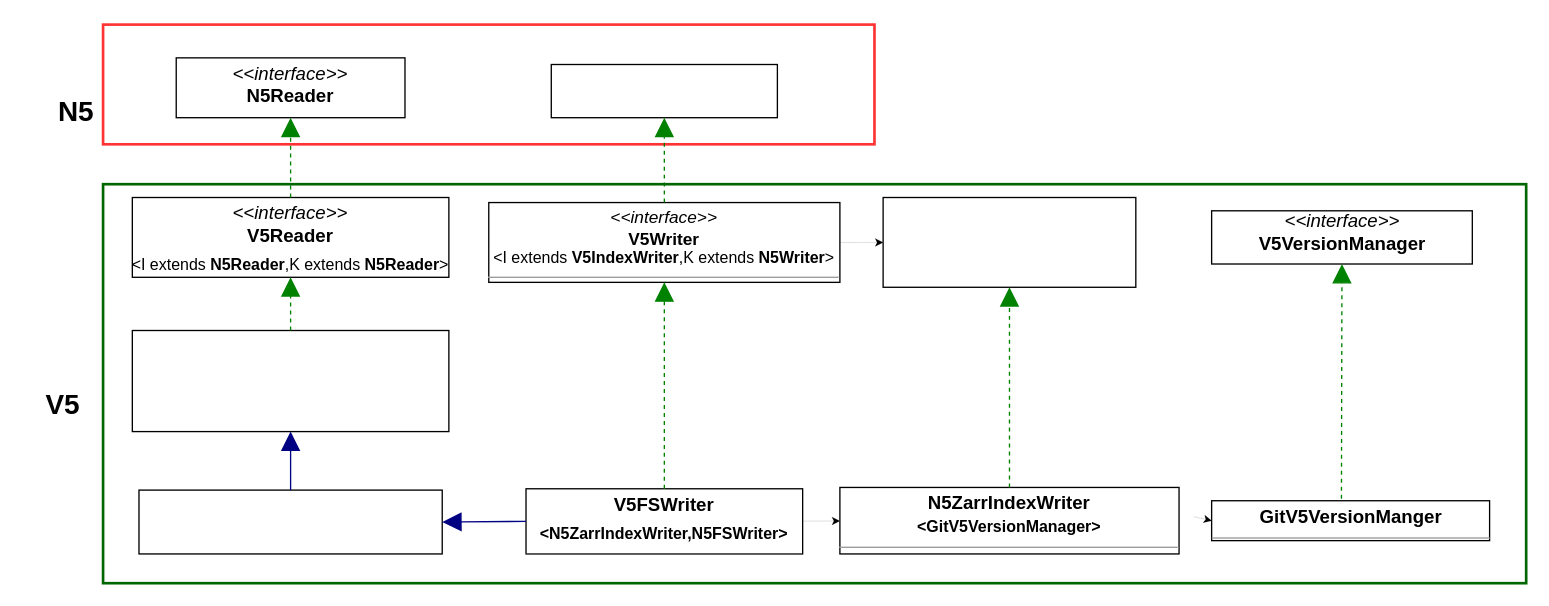
Image size: 1549x606. Some labels were removed from this diagram. Here are the shapes that lost their labels. From the top down, the centre of each, then its label:
the point at 663,90: <<interface>> N5Writer
the point at 1009,241: <<interface>> V5IndexWriter <G extends V5VersionManager >
the point at 290,380: <Abstract class> AbstractV5FSReader <I extends N5Reader ,K extends N5Reader >
the point at 290,521: V5FSReader <N5ZarrReader,N5FSReader>
